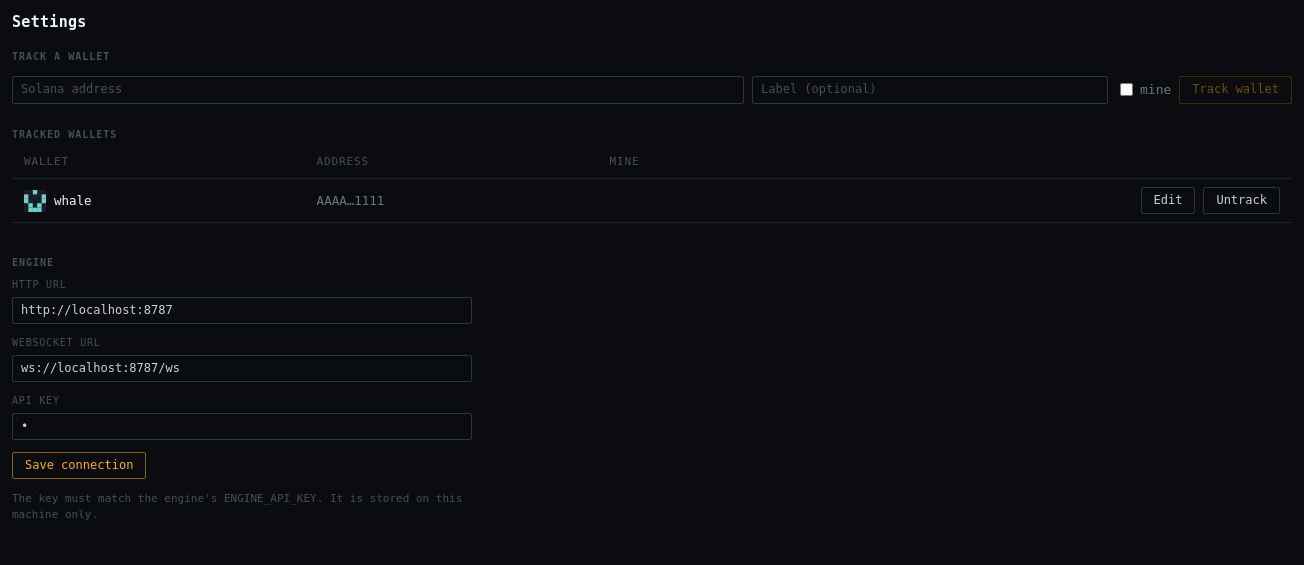
Test: SettingsTab › asks before deleting a wallet history
Click the button "Untrack": coordinates (1242, 201) [1203,187,1280,214]
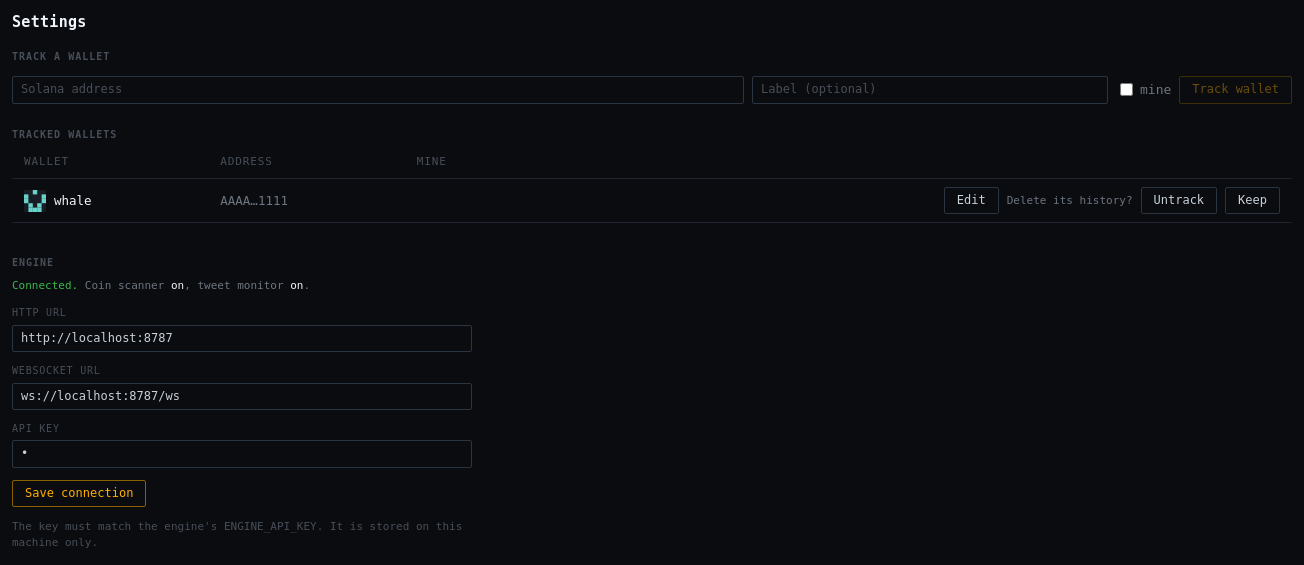
expect the text "Delete its history?" is shown: met, box [1007,193,1132,209]
